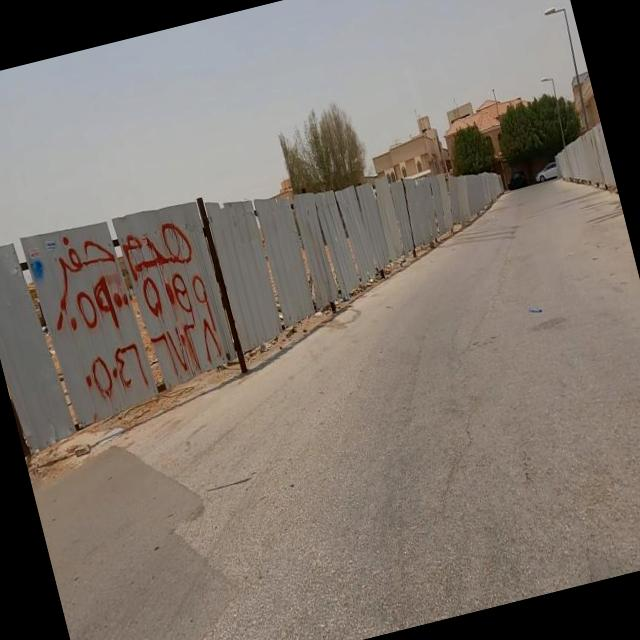debris: (0, 81, 345, 518)
